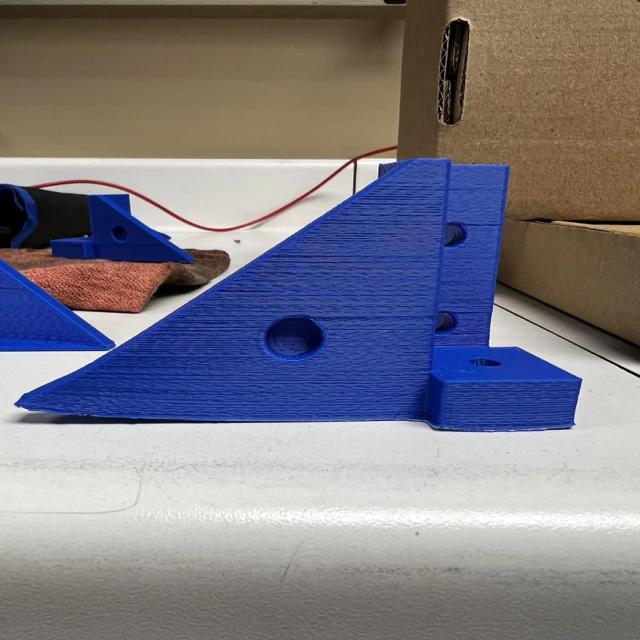warping: (14, 395, 156, 426), (516, 420, 582, 434)
